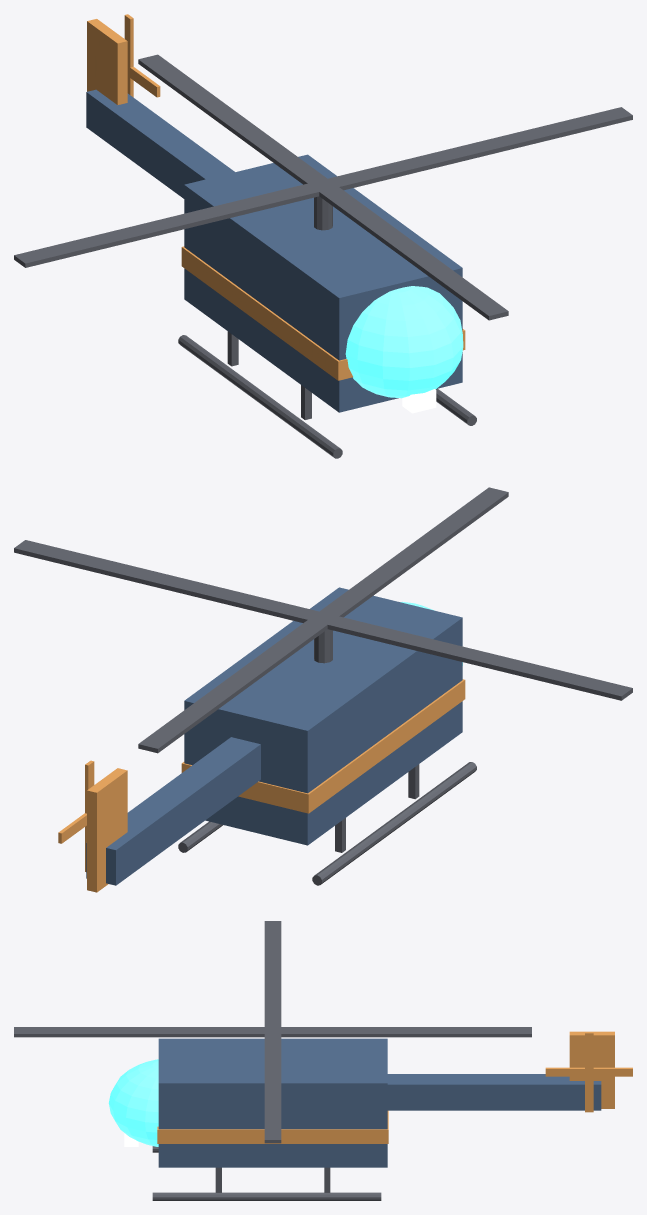
The model's file is helicopter.glb.
3 views of the same model, one above another, from view 1: azimuth 30°, elevation 25°; view 2: azimuth 150°, elevation 25°; view 3: azimuth 270°, elevation 25° (orthographic). The views are drawn at different scales.
Parts seen in each view (by area): view 1: Fuselage, Cockpit, Blade1, Blade2, TailBoom, AccentStripe, TailFin, Skid_-0.95; view 2: Fuselage, Blade1, TailBoom, Blade2, AccentStripe, TailFin, Skid_-0.95, RotorShaft; view 3: Fuselage, TailBoom, Blade2, Blade1, Cockpit, AccentStripe, Skid_0.95, TailFin, TailBlade1, TailBlade2.
Part boxes in pixels (bbox=[...]): Fuselage: bbox=[184, 154, 462, 412]; Cockpit: bbox=[345, 286, 463, 398]; Blade1: bbox=[14, 107, 632, 267]; Blade2: bbox=[138, 54, 508, 320]; TailBoom: bbox=[86, 89, 234, 198]; AccentStripe: bbox=[181, 246, 465, 380]; TailFin: bbox=[87, 19, 127, 104]; Skid_-0.95: bbox=[178, 335, 342, 458]; Fuselage: bbox=[184, 587, 462, 845]; Blade1: bbox=[14, 540, 632, 700]; TailBoom: bbox=[86, 737, 260, 885]; Blade2: bbox=[138, 487, 508, 753]; AccentStripe: bbox=[181, 679, 465, 813]; TailFin: bbox=[87, 768, 127, 892]; Skid_-0.95: bbox=[312, 762, 476, 885]; RotorShaft: bbox=[314, 629, 332, 663]; Fuselage: bbox=[158, 1038, 387, 1167]; TailBoom: bbox=[387, 1074, 601, 1110]; Blade2: bbox=[14, 1027, 531, 1037]; Blade1: bbox=[264, 921, 281, 1143]; Cockpit: bbox=[108, 1059, 158, 1146]; AccentStripe: bbox=[157, 1110, 388, 1143]; Skid_0.95: bbox=[152, 1192, 381, 1200]; TailFin: bbox=[569, 1031, 614, 1108]; TailBlade1: bbox=[545, 1067, 632, 1076]; TailBlade2: bbox=[585, 1032, 593, 1112].
Bounding box in the file's own units: 8.6 × 2.77 × 10.28.
